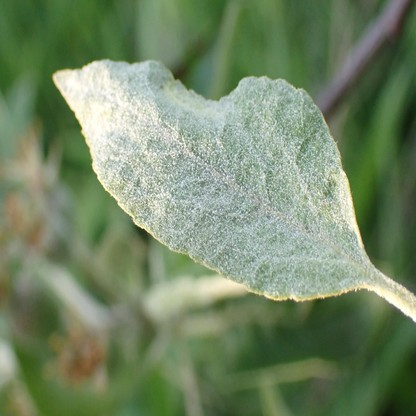powdery_mildew: (54, 57, 371, 301)
